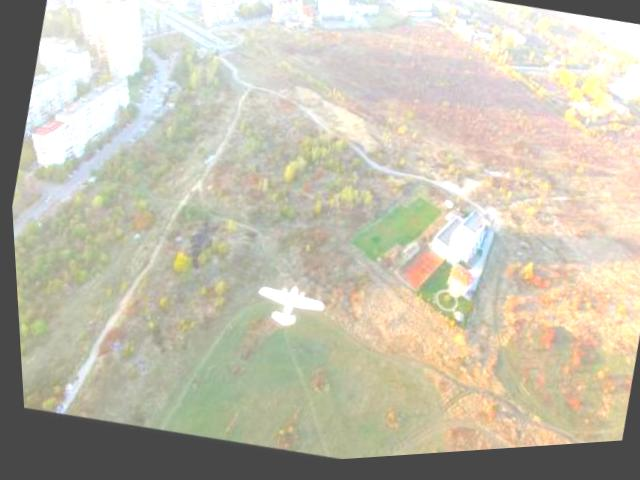uav: (240, 268, 332, 343)
